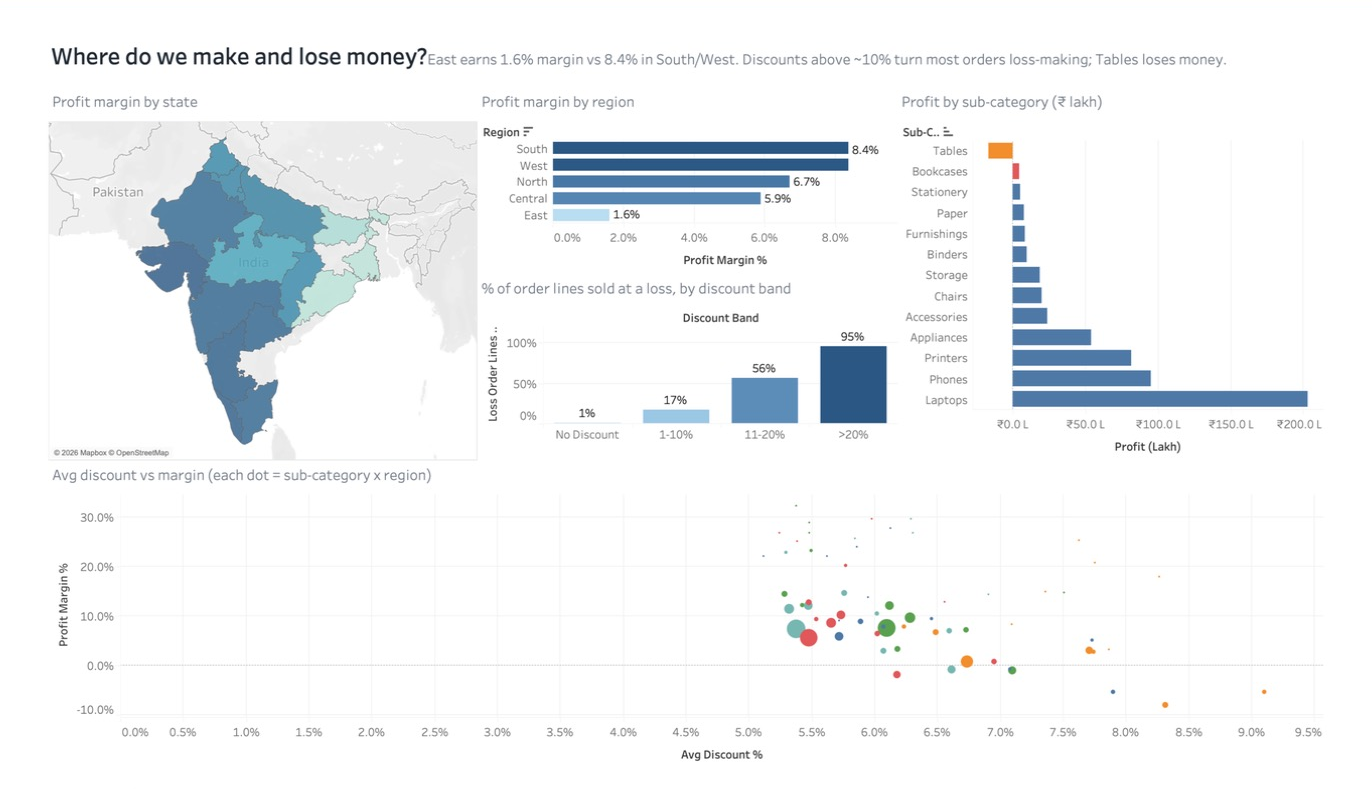

The dashboard page shown, as its layout file describes it:
{"tool":"tableau","page":{"name":"Regional & Profitability","canvas":[1366,800],"ordinal":1},"visuals":[{"type":"text","box":[0,0,1366,70]},{"type":"worksheet","title":"State Margin Map","mark":"Multipolygon","box":[0,70,460,400]},{"type":"worksheet","title":"Margin by Region","mark":"Bar","rows":["Region"],"cols":["Calculation_1003"],"box":[460,70,450,200]},{"type":"worksheet","title":"Sub-Category Profit","mark":"Bar","rows":["Sub-Category"],"cols":["Calculation_1008"],"box":[910,70,456,400]},{"type":"worksheet","title":"Loss Rate by Discount Band","mark":"Bar","rows":["Calculation_1006"],"cols":["Discount Band"],"box":[460,270,450,200]},{"type":"worksheet","title":"Discount vs Margin","mark":"Circle","rows":["Calculation_1003"],"cols":["Calculation_1009"],"box":[0,470,1366,330]}]}

Visuals, with their boxes in screenshot pixels (x1, y1, x2, y2), scaled from the page's 1366x800 canvas onto the 1372x792 screenshot:
text: l=0, t=0, r=1371, b=69
"State Margin Map" worksheet (Multipolygon marks): l=0, t=69, r=462, b=465
"Margin by Region" worksheet (Bar marks): l=462, t=69, r=914, b=267
"Sub-Category Profit" worksheet (Bar marks): l=914, t=69, r=1371, b=465
"Loss Rate by Discount Band" worksheet (Bar marks): l=462, t=267, r=914, b=465
"Discount vs Margin" worksheet (Circle marks): l=0, t=465, r=1371, b=791
